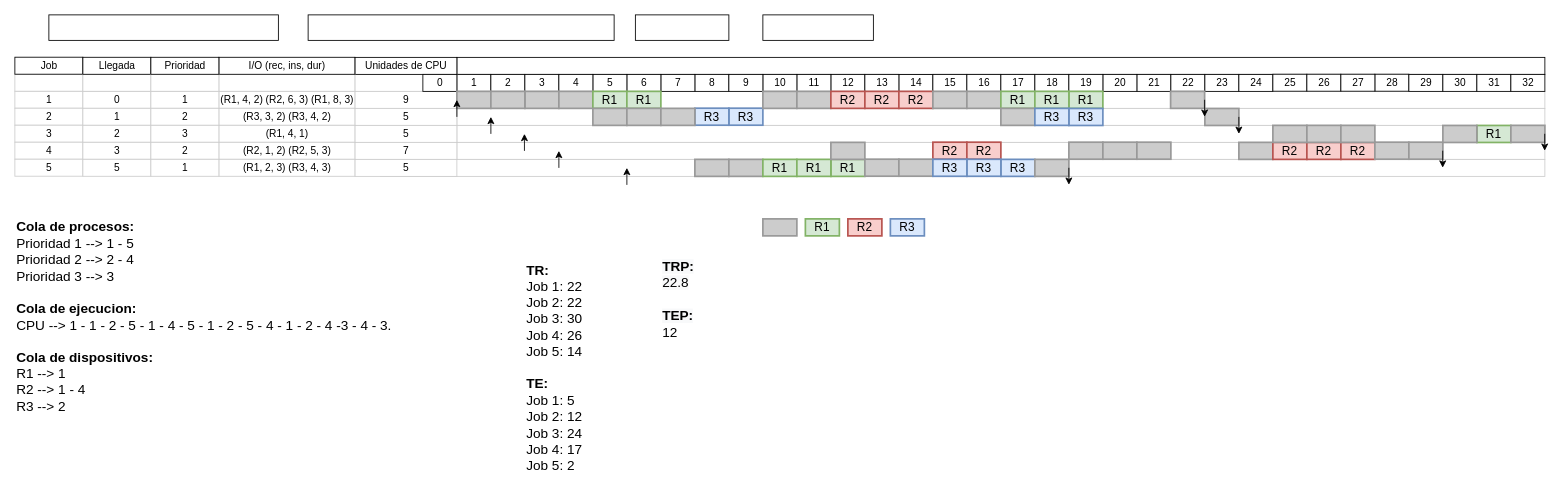
The diagram is 1567 pixels wide and 497 high, and some of its shapes have lost their labels. The shapes that lost their labels are listed below. From the top down, each one's centre as x and y in pixels, then its label:
At (163,27): "Colas multinivel: 1 cola por prioridad".
At (460,27): "Por prioridades y cada cola con RR Timer variable".
At (682,27): "Quantum = 3".
At (817,27): "Sin apropiacion".
At (1000,65): "Instante de tiempo".
